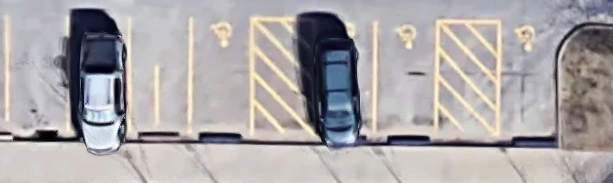Occupied: (313, 16, 375, 130), (69, 13, 129, 130)
Vacant: (499, 17, 560, 136), (190, 13, 252, 130), (375, 15, 437, 131), (7, 13, 68, 130), (129, 13, 189, 130)
